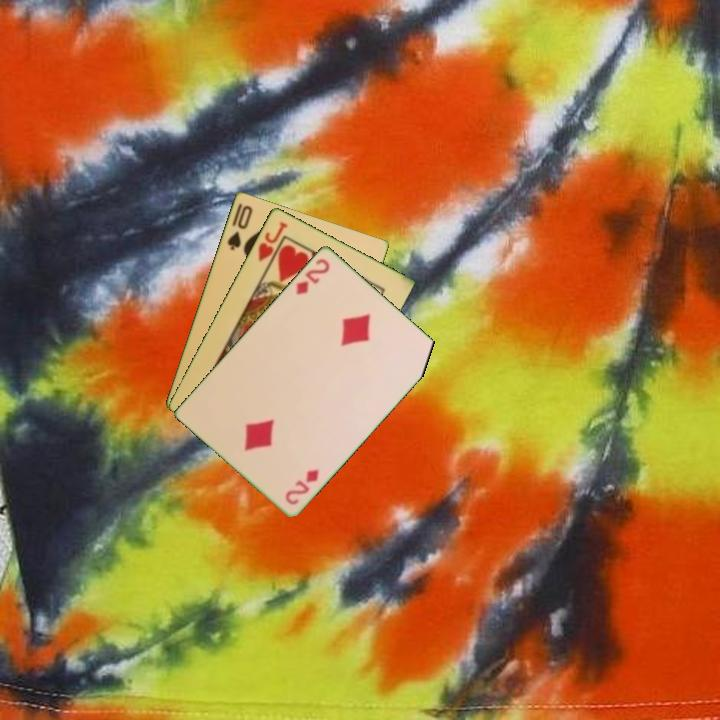10s: (224, 201, 255, 253)
2d: (292, 254, 333, 297), (281, 465, 322, 507)
Jh: (254, 218, 291, 272)
